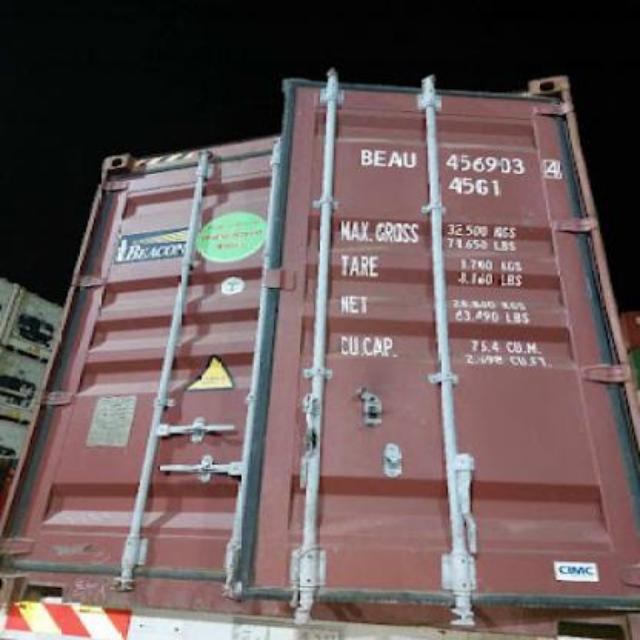0: (501, 156, 514, 174)
3: (512, 156, 526, 174)
4: (540, 156, 566, 178), (446, 153, 458, 171)
5: (460, 154, 472, 172)
6: (470, 150, 486, 173)
9: (484, 154, 498, 176)
A: (390, 146, 400, 170)
B: (360, 146, 370, 168)
E: (374, 148, 386, 168)
U: (400, 150, 418, 168)
